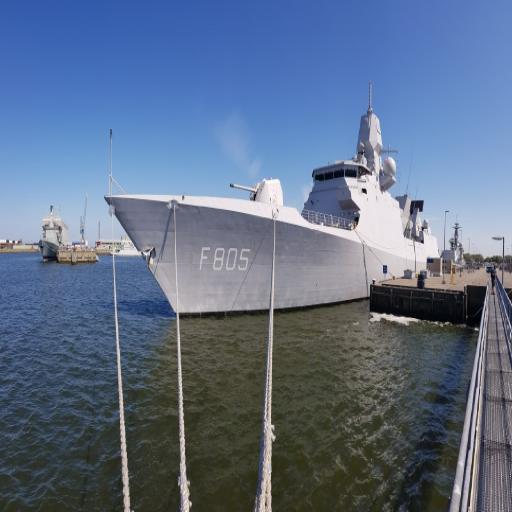Fragata: (111, 78, 443, 323)
